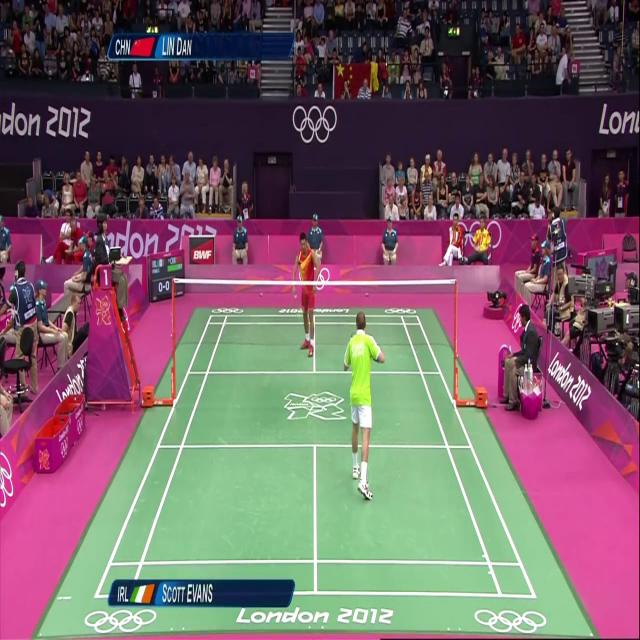Net: (171, 278, 460, 365)
Player1: (346, 288, 386, 510)
Player2: (288, 225, 326, 363)
Shuttlecock: (291, 288, 301, 309)
